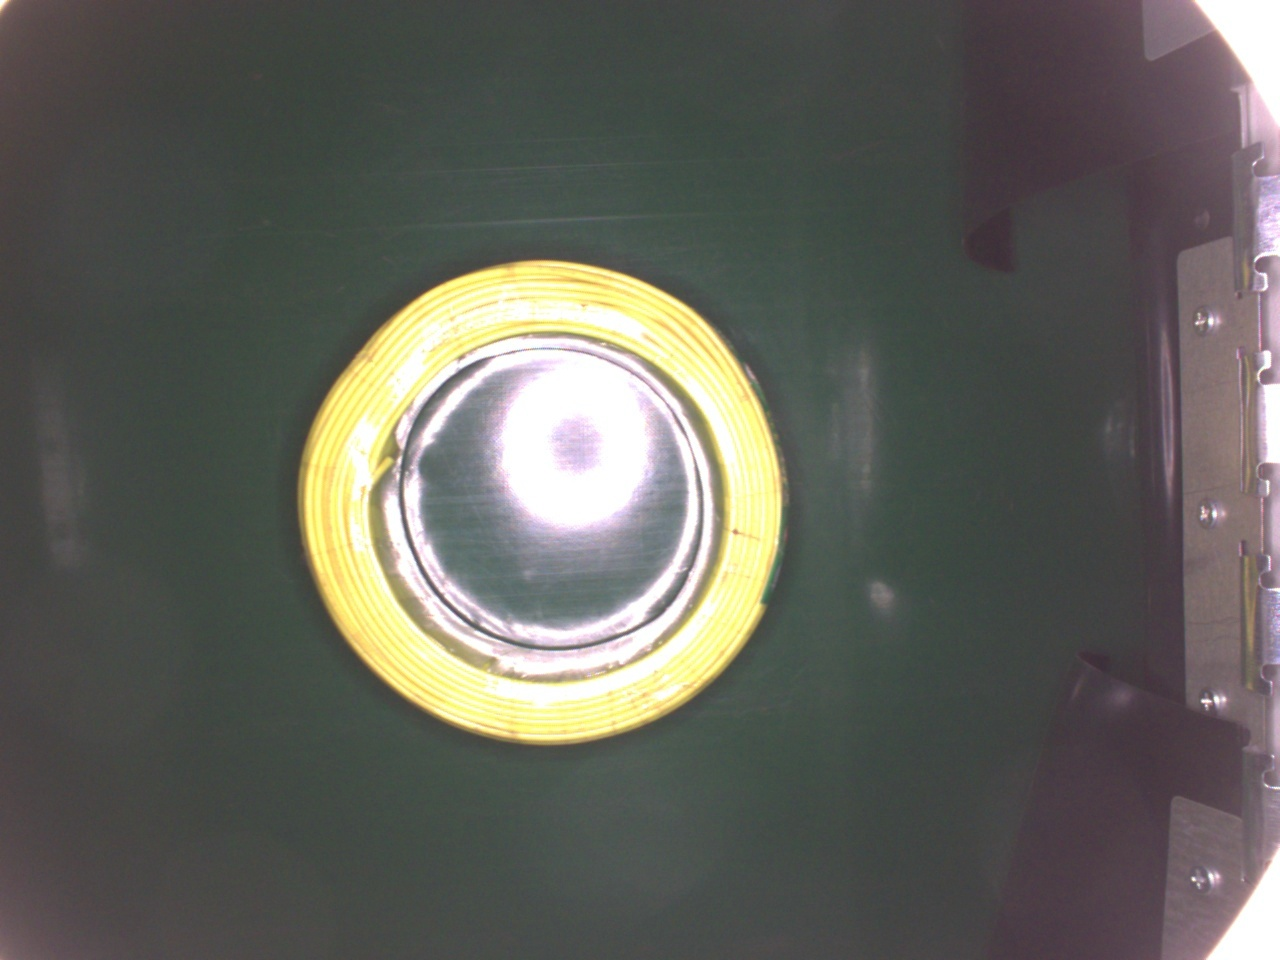yellow: (296, 255, 787, 746)
